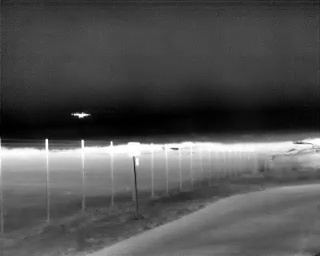AIRPLANE: (70, 109, 92, 121)
